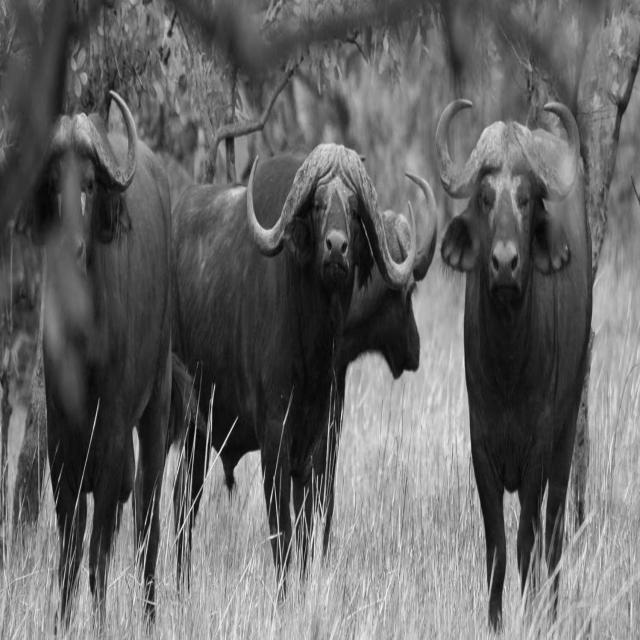Buffalo: (167, 142, 415, 600), (23, 84, 172, 640), (441, 100, 595, 635)
